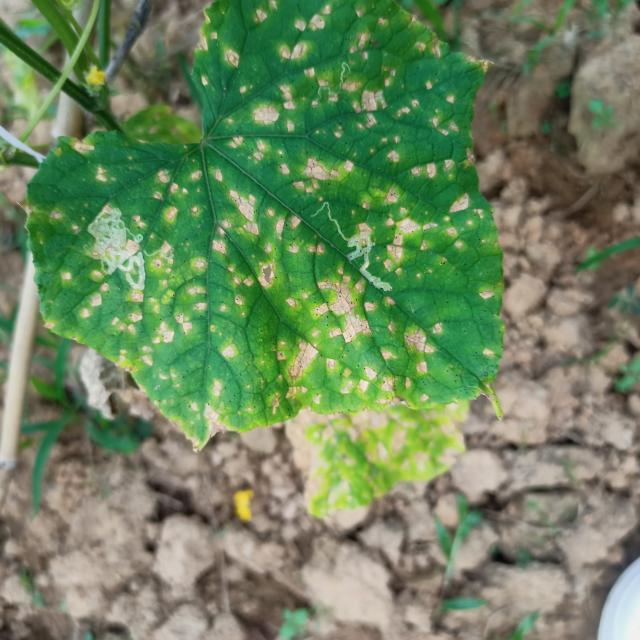disease_cucumber: (49, 0, 498, 436)
